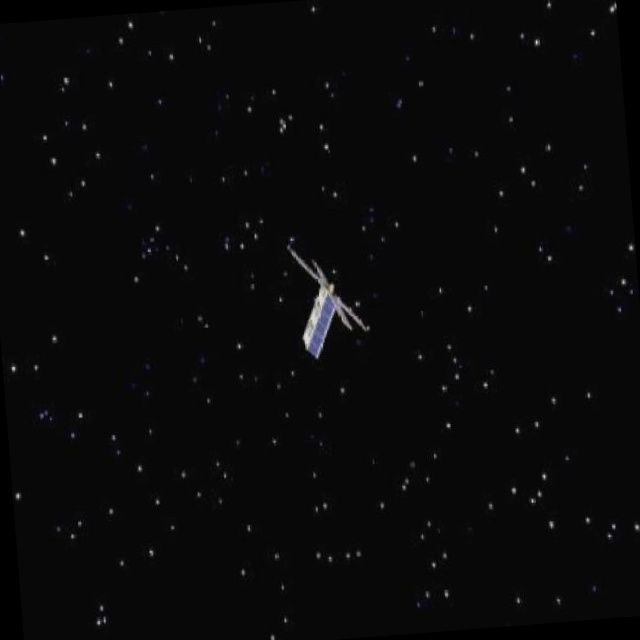satellite: (276, 226, 381, 373)
